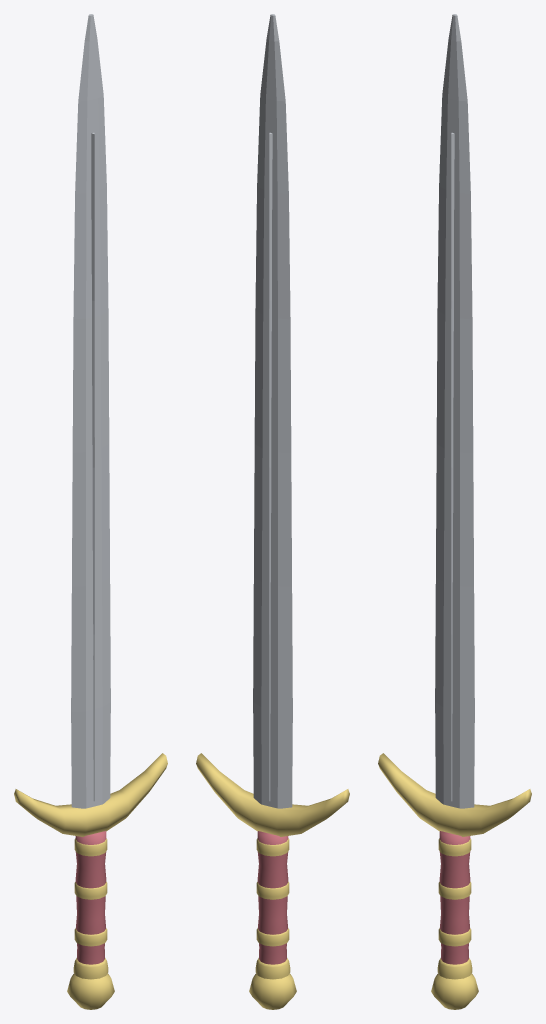
Rendered from wpn_bluesky.glb.
The picture shows the model from 3 angles, left to right: view 1: azimuth 30°, elevation 25°; view 2: azimuth 150°, elevation 25°; view 3: azimuth 330°, elevation 25°; orthographic projection.
Visible parts, largest first — view 1: wpn_bluesky; view 2: wpn_bluesky; view 3: wpn_bluesky.
Part boxes in pixels (x1=…): wpn_bluesky: x1=14, y1=14, x2=167, y2=1009; wpn_bluesky: x1=196, y1=14, x2=349, y2=1009; wpn_bluesky: x1=378, y1=14, x2=531, y2=1009.
Size of the model in its own units: 0.184 by 1.19 by 0.052.
